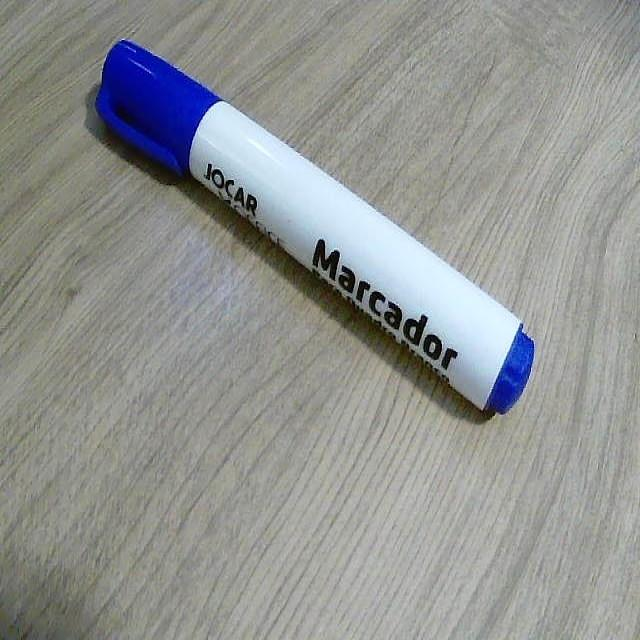caneta: (82, 24, 541, 436)
